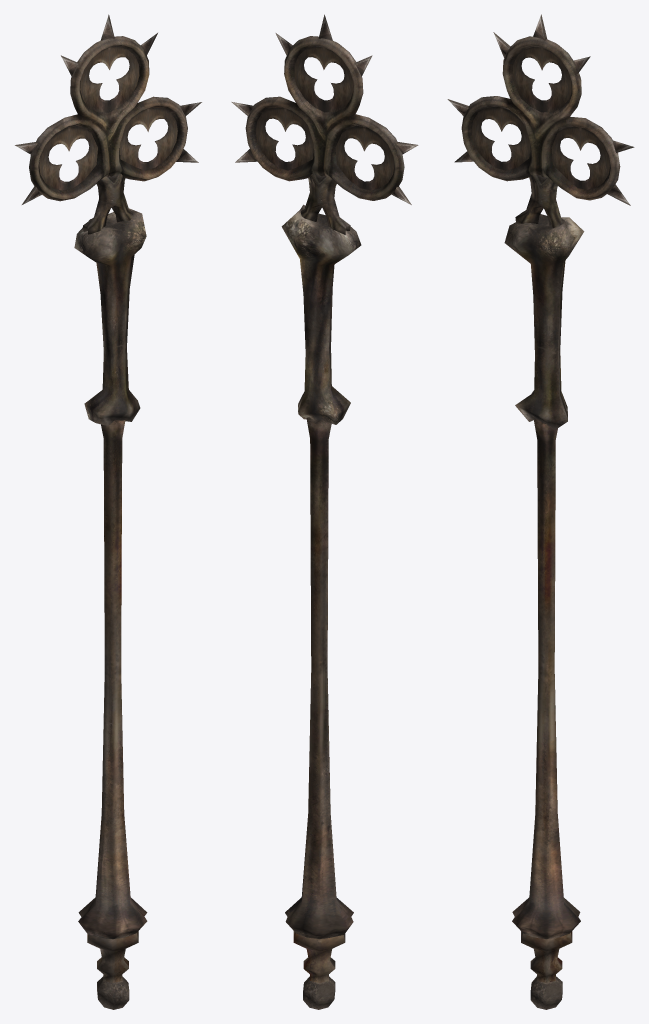
Rendered from Card Guards - Weapon B.obj.
The picture shows the model from 3 angles, left to right: view 1: azimuth 30°, elevation 25°; view 2: azimuth 150°, elevation 25°; view 3: azimuth 330°, elevation 25°; orthographic projection.
Parts seen in each view (by area): view 1: CardGuardWeapenB.001; view 2: CardGuardWeapenB.001; view 3: CardGuardWeapenB.001.
Boxes of the visible parts, left/top/right/bottom form: CardGuardWeapenB.001: left=15, top=14, right=201, bottom=1009; CardGuardWeapenB.001: left=231, top=14, right=418, bottom=1009; CardGuardWeapenB.001: left=447, top=14, right=634, bottom=1009.
Size of the model in its own units: 0.5609 by 2.83 by 0.1783.
Materials: 1 (1 with a texture image).
